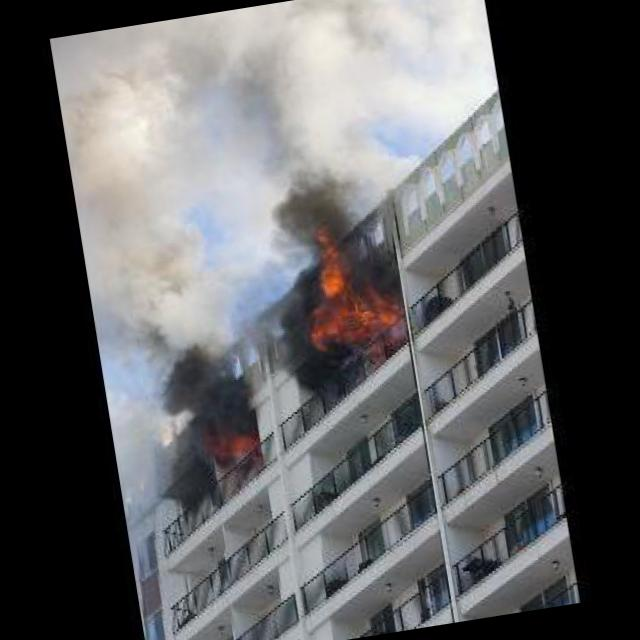fire: (224, 77, 398, 286), (297, 214, 408, 378), (206, 424, 278, 471)
smoke: (151, 334, 262, 440), (252, 281, 322, 404)
